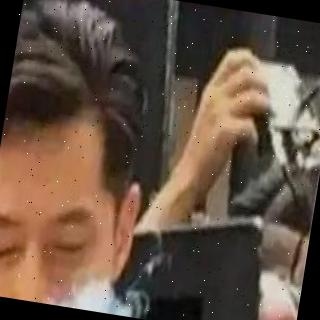smoke: (45, 283, 135, 318)
